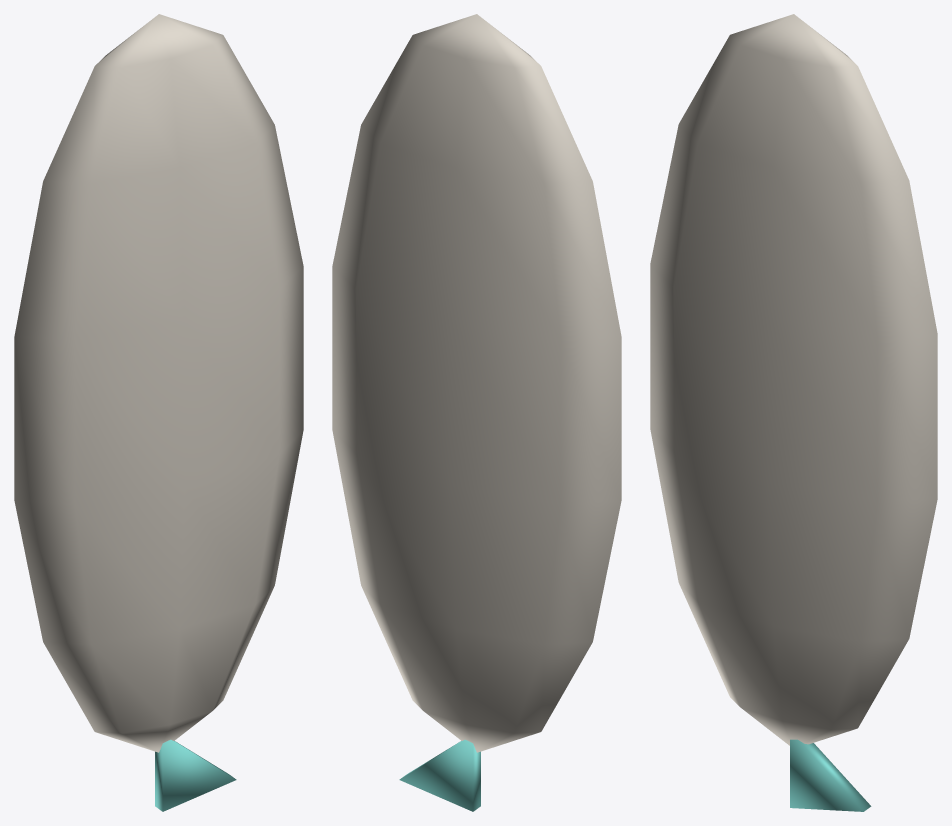
The model's file is xy_beach_surfboard.glb.
The picture shows the model from 3 angles, left to right: view 1: azimuth 30°, elevation 25°; view 2: azimuth 150°, elevation 25°; view 3: azimuth 330°, elevation 25°; orthographic projection.
Visible parts, largest first — view 1: Surfboard; view 2: Surfboard; view 3: Surfboard.
Boxes of the visible parts, bbox=[...] form: Surfboard: bbox=[14, 14, 303, 811]; Surfboard: bbox=[332, 14, 621, 811]; Surfboard: bbox=[650, 14, 937, 811].
Bounding box in the file's own units: 0.8599 × 2.26 × 0.2662.
